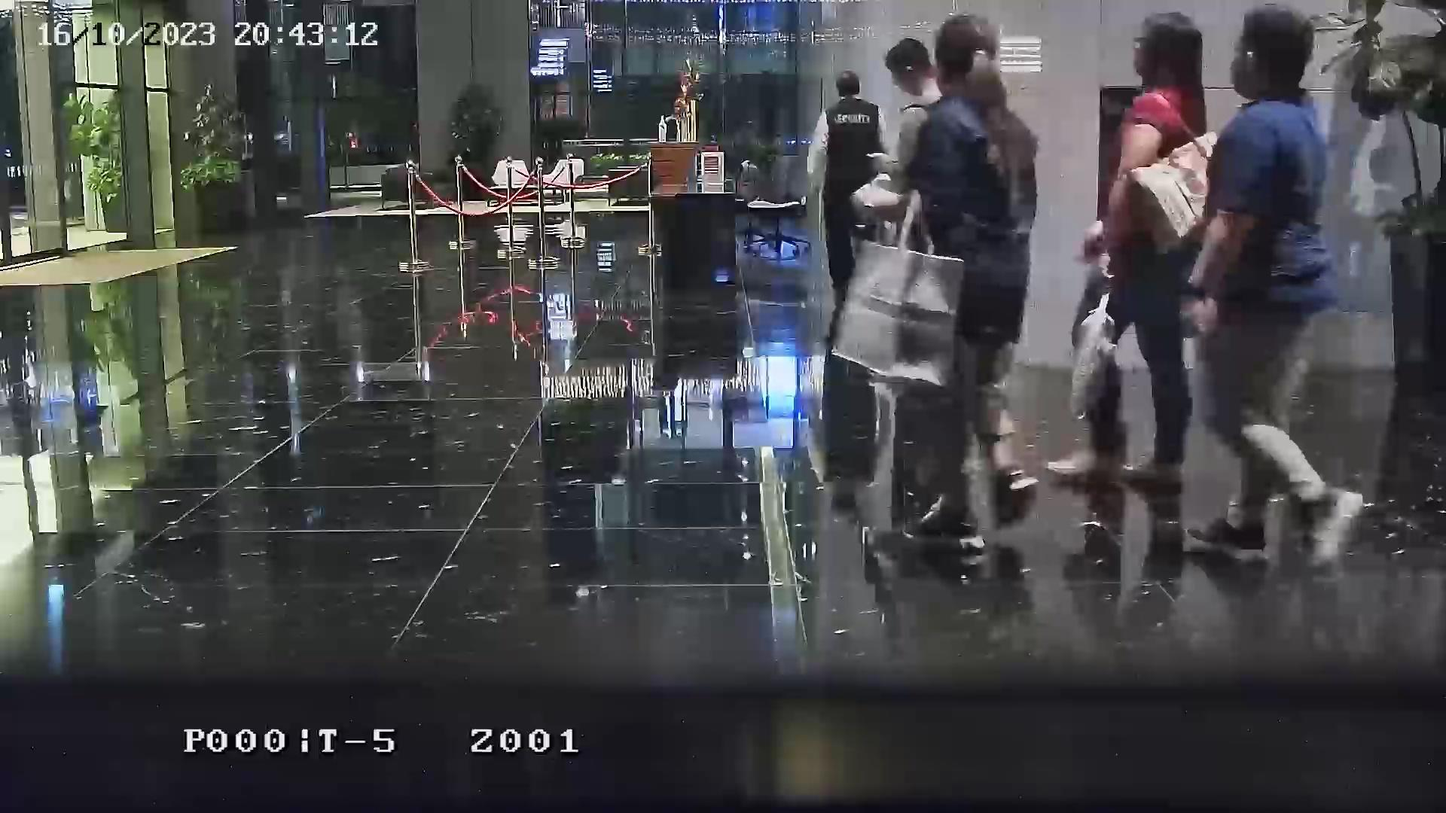person: (1182, 14, 1344, 554), (859, 12, 1041, 457), (1052, 14, 1212, 480), (908, 11, 1040, 439), (854, 38, 942, 251), (808, 69, 886, 297)
